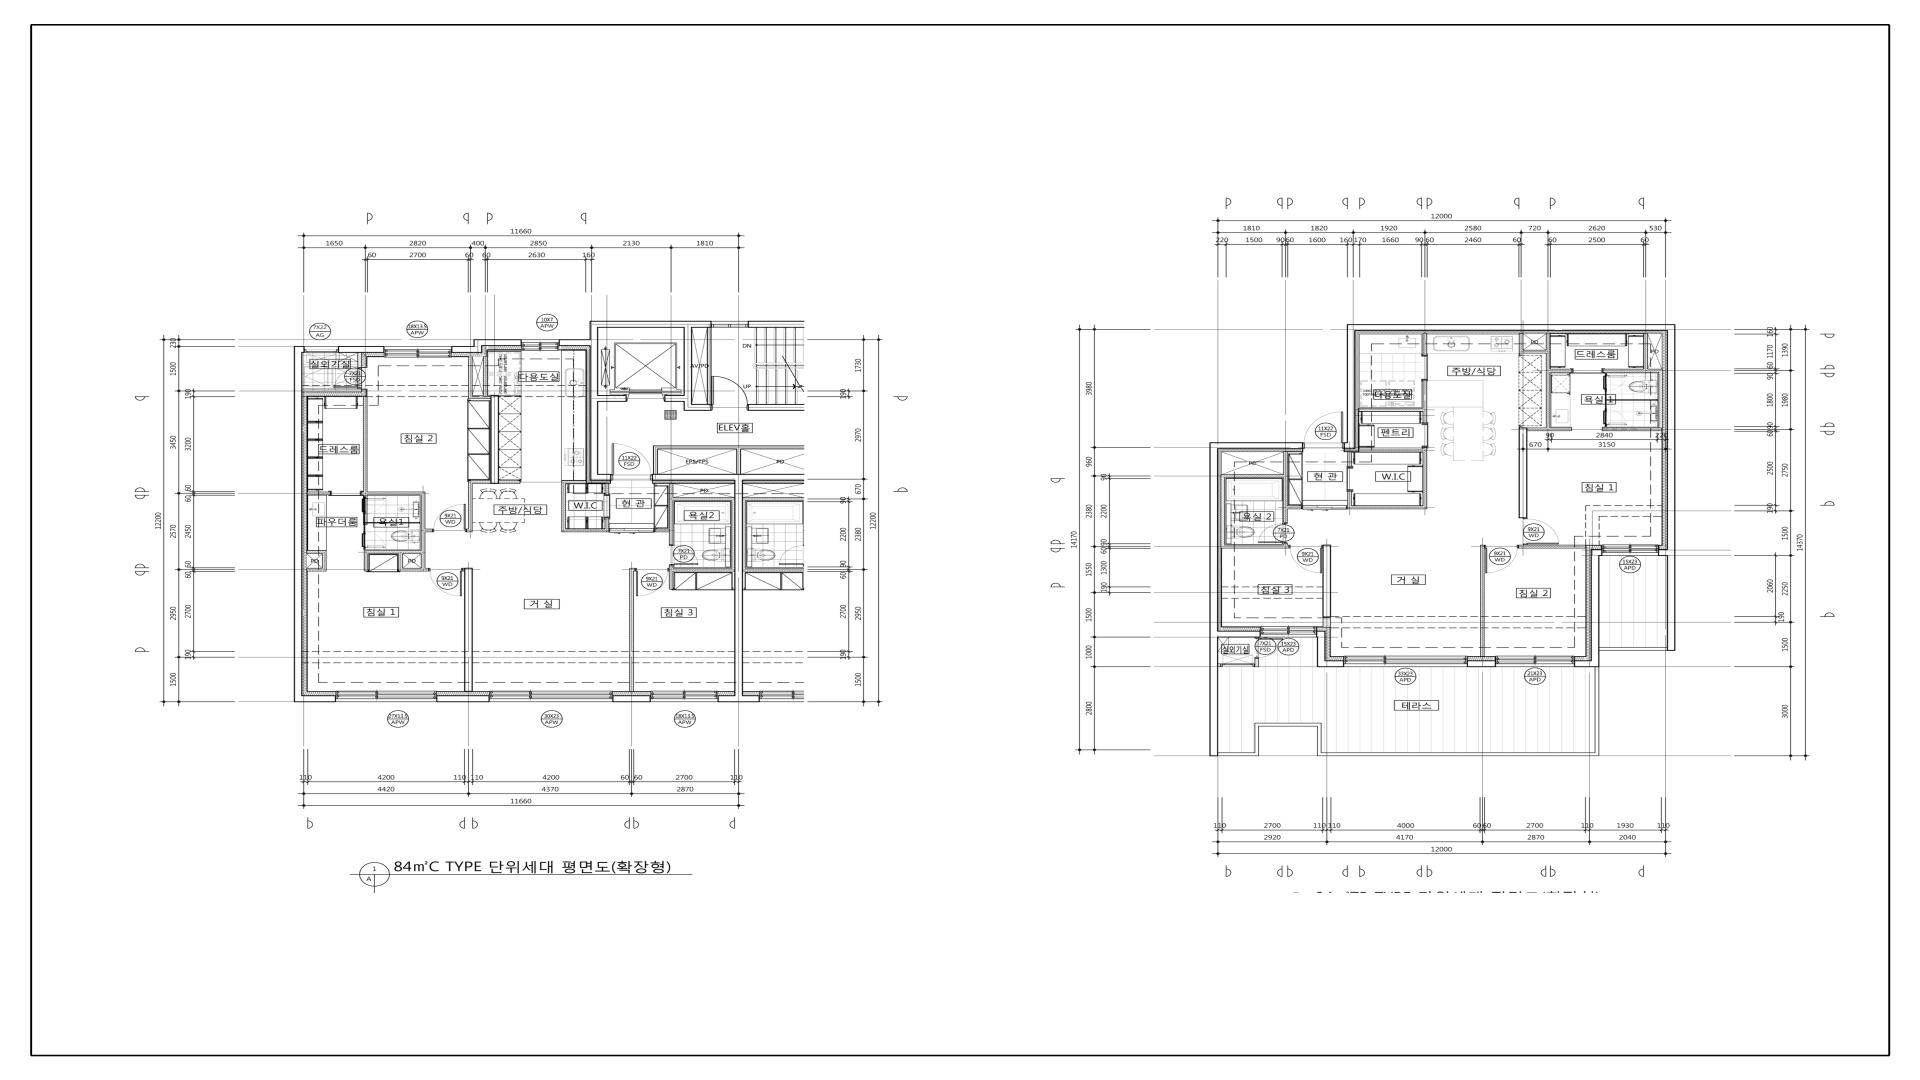door: (611, 443, 651, 480), (1303, 411, 1344, 444), (711, 376, 748, 410), (433, 504, 467, 533), (429, 568, 464, 596), (634, 568, 669, 596), (1523, 518, 1559, 545), (1485, 547, 1518, 574), (1290, 547, 1321, 574), (669, 545, 699, 566), (334, 368, 361, 389), (1258, 524, 1284, 543), (1257, 638, 1283, 657), (361, 496, 386, 514), (361, 531, 386, 550), (1604, 409, 1627, 425), (1604, 376, 1627, 392), (609, 527, 654, 533), (328, 491, 363, 496), (1302, 505, 1346, 509), (604, 493, 611, 520), (1422, 356, 1428, 380), (1346, 468, 1353, 491), (1422, 425, 1428, 447), (1572, 369, 1602, 373), (1571, 429, 1604, 430)
wall: (1344, 324, 1676, 555), (1209, 442, 1303, 667), (294, 345, 305, 703), (1575, 549, 1602, 667), (735, 481, 742, 695), (589, 320, 599, 473), (651, 473, 804, 481), (1316, 630, 1344, 667), (464, 568, 472, 692), (599, 320, 711, 328), (1518, 427, 1527, 518), (683, 328, 692, 411), (491, 396, 498, 484), (629, 568, 634, 691), (653, 446, 804, 450), (1480, 545, 1485, 657), (1323, 545, 1331, 617), (363, 397, 368, 496), (1545, 334, 1551, 427), (748, 404, 804, 411), (436, 695, 489, 703), (707, 327, 712, 404), (421, 495, 426, 568), (473, 339, 521, 347), (748, 320, 804, 327), (1221, 543, 1290, 549), (669, 484, 674, 545), (1348, 505, 1423, 509), (339, 345, 384, 352), (613, 695, 650, 703), (1283, 451, 1287, 524), (1518, 545, 1586, 549), (302, 695, 336, 703), (719, 695, 760, 702), (1221, 477, 1225, 545), (467, 484, 472, 533), (1358, 407, 1423, 411), (1360, 448, 1423, 452), (1423, 447, 1427, 509), (452, 345, 483, 353), (1604, 427, 1663, 431), (674, 497, 732, 501), (364, 550, 421, 554), (1659, 372, 1663, 427), (483, 356, 488, 396), (559, 339, 589, 345), (1466, 661, 1497, 667), (1643, 334, 1648, 369), (732, 497, 735, 568), (562, 529, 609, 533), (599, 396, 626, 402), (1423, 380, 1427, 425), (562, 484, 566, 529), (1527, 427, 1571, 431), (1221, 475, 1283, 477), (1602, 369, 1663, 372), (674, 568, 735, 571), (302, 389, 361, 392), (468, 356, 472, 396), (368, 492, 426, 495), (692, 404, 711, 411), (589, 473, 611, 480), (736, 450, 741, 473), (653, 450, 658, 473), (669, 566, 674, 589), (665, 396, 683, 402), (1519, 349, 1545, 353), (562, 480, 587, 484), (1423, 334, 1427, 356), (498, 480, 521, 484), (468, 480, 491, 484), (1323, 617, 1331, 628), (398, 568, 429, 571), (306, 550, 326, 554), (365, 522, 421, 524), (1607, 400, 1659, 401), (364, 554, 368, 571), (322, 554, 326, 571), (1348, 452, 1352, 468), (1519, 334, 1523, 349), (468, 396, 491, 398), (1348, 491, 1352, 505), (1287, 505, 1302, 509), (357, 353, 361, 368), (398, 554, 402, 568), (1551, 369, 1572, 372), (1254, 657, 1259, 667), (307, 492, 328, 495), (655, 529, 669, 533), (1605, 392, 1607, 410), (363, 514, 365, 531), (306, 568, 322, 571), (605, 484, 609, 493), (605, 520, 609, 529), (426, 529, 433, 533), (1218, 663, 1221, 667)
window: (1344, 655, 1466, 667), (489, 691, 613, 702), (335, 691, 436, 703), (1497, 655, 1575, 667), (384, 347, 452, 357), (650, 691, 719, 702), (1602, 545, 1658, 555), (1261, 626, 1316, 637), (521, 339, 559, 351), (711, 320, 748, 327), (305, 347, 339, 352), (1221, 663, 1254, 667)
